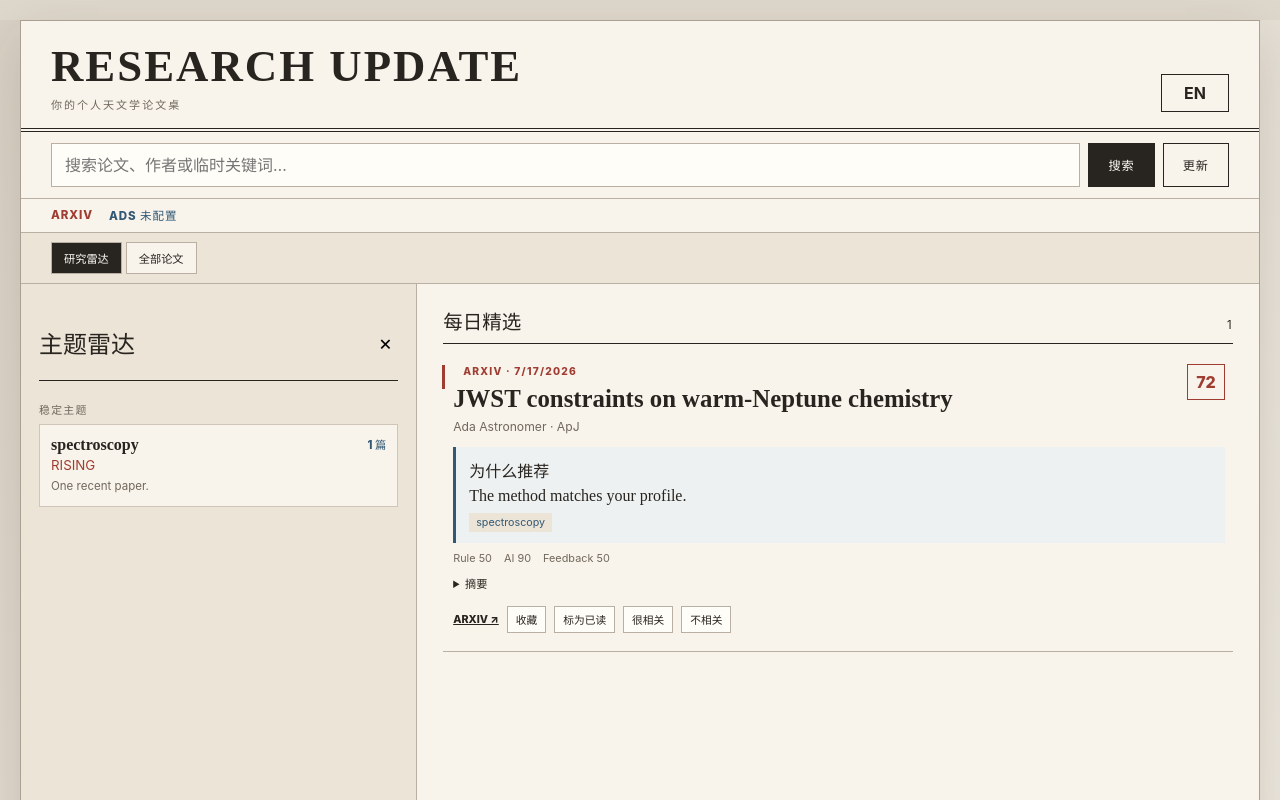
Test: Research Update dashboard › updates favorite state optimistically
What coordinates should you click on to do the following:
click the button "收藏"
I would click on:
 (527, 620)
Its box is [507,606,546,633].
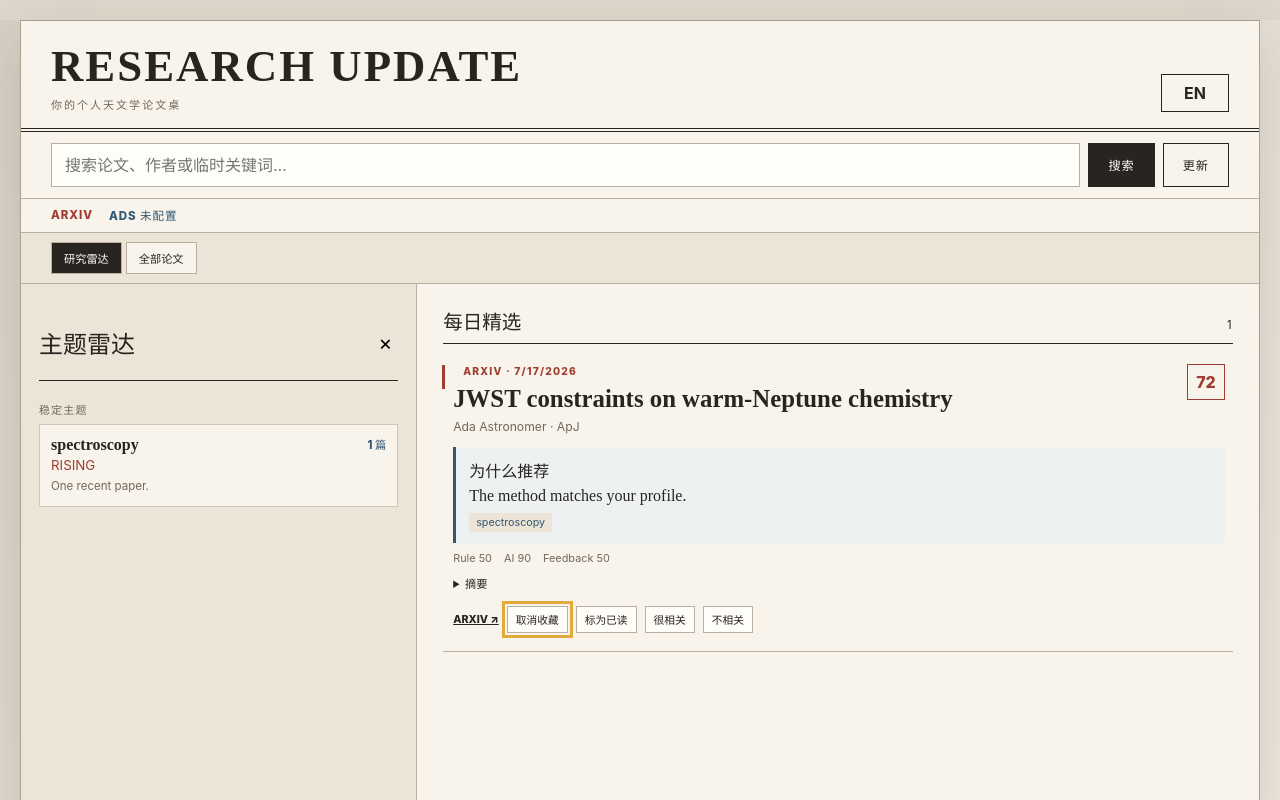
Check: the button "取消收藏" is shown, box [507,606,568,633]
